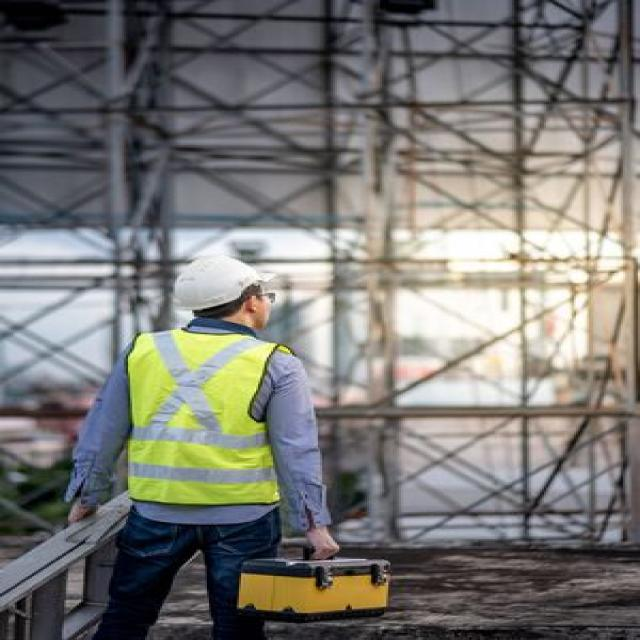helmet: (153, 253, 277, 310)
vest: (128, 320, 291, 510)
